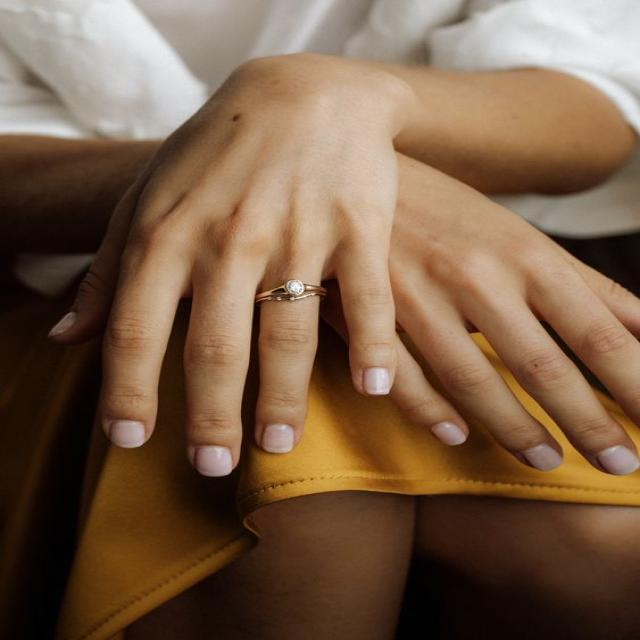Fingernail: (195, 444, 233, 477), (597, 445, 639, 474), (110, 420, 147, 449), (524, 444, 562, 471), (262, 424, 294, 453), (431, 421, 465, 446), (363, 367, 390, 395), (49, 313, 78, 336)
